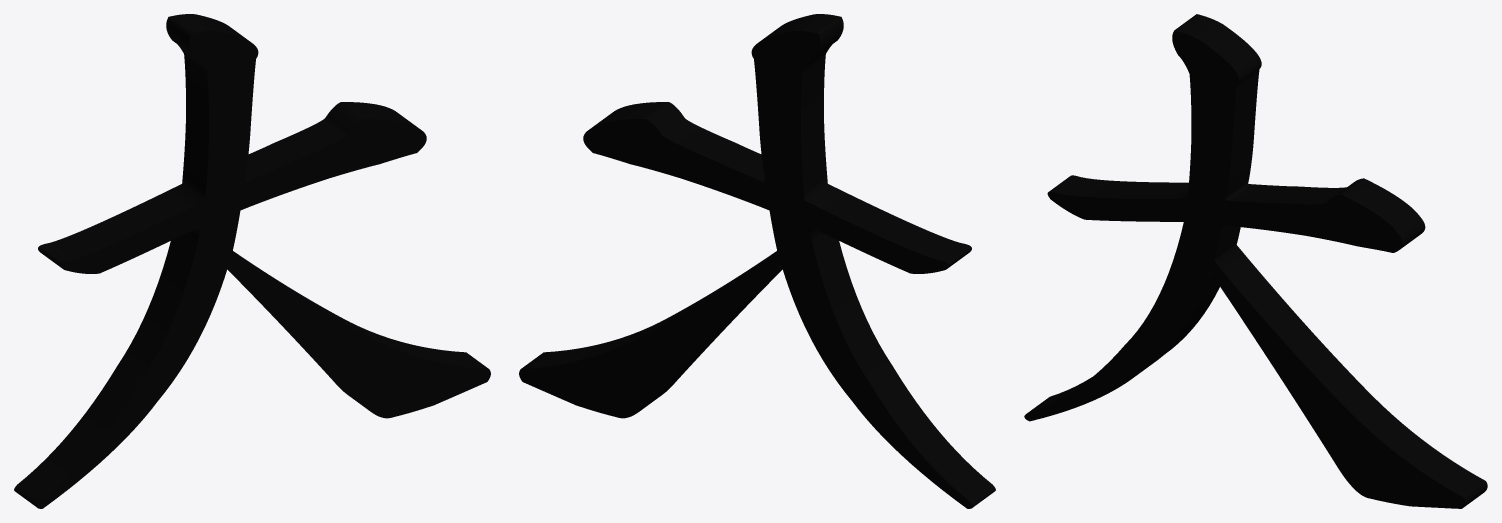
The model's file is dai.obj.
3 views of the same model, side by side, from view 1: azimuth 30°, elevation 25°; view 2: azimuth 150°, elevation 25°; view 3: azimuth 330°, elevation 25° (orthographic). The views are drawn at different scales.
Visible parts, largest first — view 1: テキスト; view 2: テキスト; view 3: テキスト.
Boxes of the visible parts, x1=… form: テキスト: x1=14, y1=14, x2=490, y2=508; テキスト: x1=519, y1=14, x2=995, y2=508; テキスト: x1=1024, y1=14, x2=1487, y2=508.
Bounding box in the file's own units: 18.16 × 16.78 × 1.6.
1 material, 1 textured.
